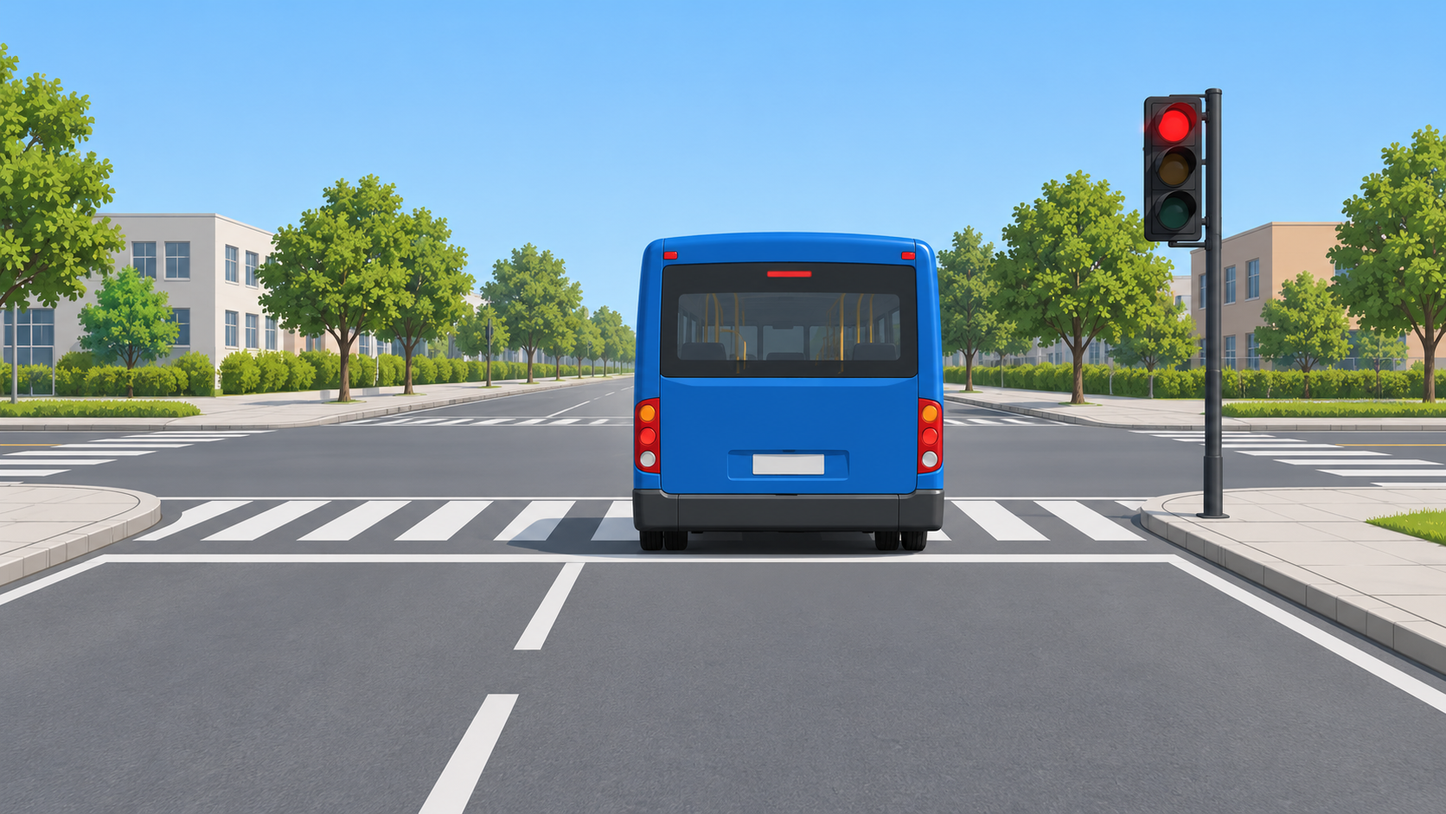bus: (630, 233, 946, 552)
traffic_light: (1143, 96, 1221, 245)
zebra_crossing: (133, 486, 1339, 561)
